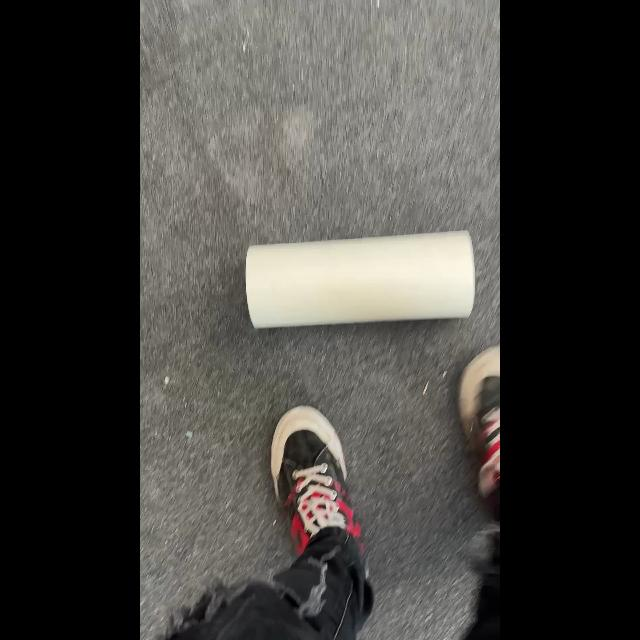CORAL: (244, 229, 476, 329)
